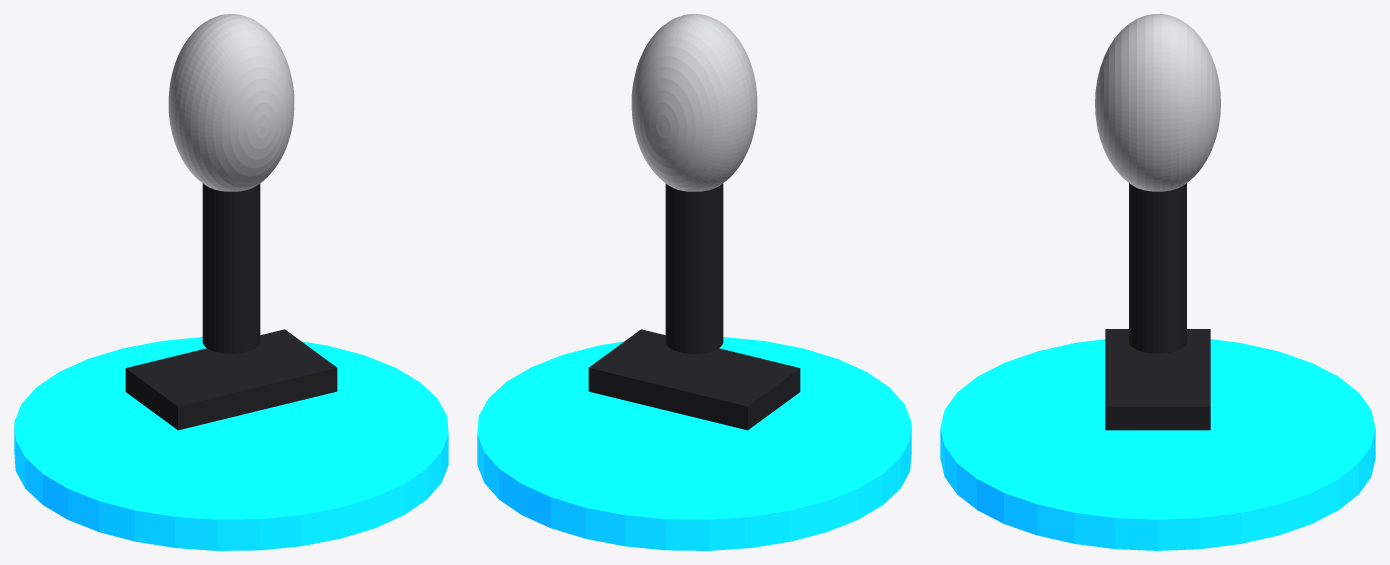
The model's file is news_reporter_microphone.glb.
3 views of the same model, side by side, from view 1: azimuth 30°, elevation 25°; view 2: azimuth 150°, elevation 25°; view 3: azimuth 270°, elevation 25° (orthographic).
Visible parts, largest first — view 1: 09_18_Popular_News_Reporter_Microphone_ROOT_base, 09_18_Popular_News_Reporter_Microphone_part_01, 09_18_Popular_News_Reporter_Microphone_part_03, 09_18_Popular_News_Reporter_Microphone_part_02; view 2: 09_18_Popular_News_Reporter_Microphone_ROOT_base, 09_18_Popular_News_Reporter_Microphone_part_01, 09_18_Popular_News_Reporter_Microphone_part_03, 09_18_Popular_News_Reporter_Microphone_part_02; view 3: 09_18_Popular_News_Reporter_Microphone_ROOT_base, 09_18_Popular_News_Reporter_Microphone_part_01, 09_18_Popular_News_Reporter_Microphone_part_03, 09_18_Popular_News_Reporter_Microphone_part_02.
Part boxes in pixels (left/top/right/bottom): 09_18_Popular_News_Reporter_Microphone_ROOT_base: left=14, top=337, right=448, bottom=550; 09_18_Popular_News_Reporter_Microphone_part_01: left=168, top=14, right=294, bottom=191; 09_18_Popular_News_Reporter_Microphone_part_03: left=125, top=329, right=337, bottom=430; 09_18_Popular_News_Reporter_Microphone_part_02: left=202, top=183, right=260, bottom=353; 09_18_Popular_News_Reporter_Microphone_ROOT_base: left=477, top=337, right=911, bottom=550; 09_18_Popular_News_Reporter_Microphone_part_01: left=631, top=14, right=757, bottom=191; 09_18_Popular_News_Reporter_Microphone_part_03: left=588, top=329, right=800, bottom=430; 09_18_Popular_News_Reporter_Microphone_part_02: left=665, top=183, right=723, bottom=353; 09_18_Popular_News_Reporter_Microphone_ROOT_base: left=940, top=339, right=1375, bottom=550; 09_18_Popular_News_Reporter_Microphone_part_01: left=1095, top=14, right=1220, bottom=191; 09_18_Popular_News_Reporter_Microphone_part_03: left=1105, top=329, right=1210, bottom=430; 09_18_Popular_News_Reporter_Microphone_part_02: left=1129, top=183, right=1186, bottom=353.
Size of the model in its own units: 0.76 by 0.85 by 0.76.
